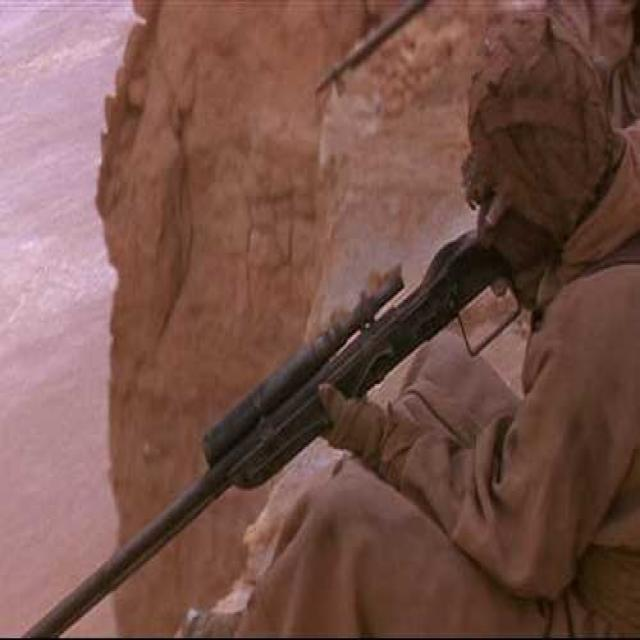weapon: (16, 191, 568, 640)
